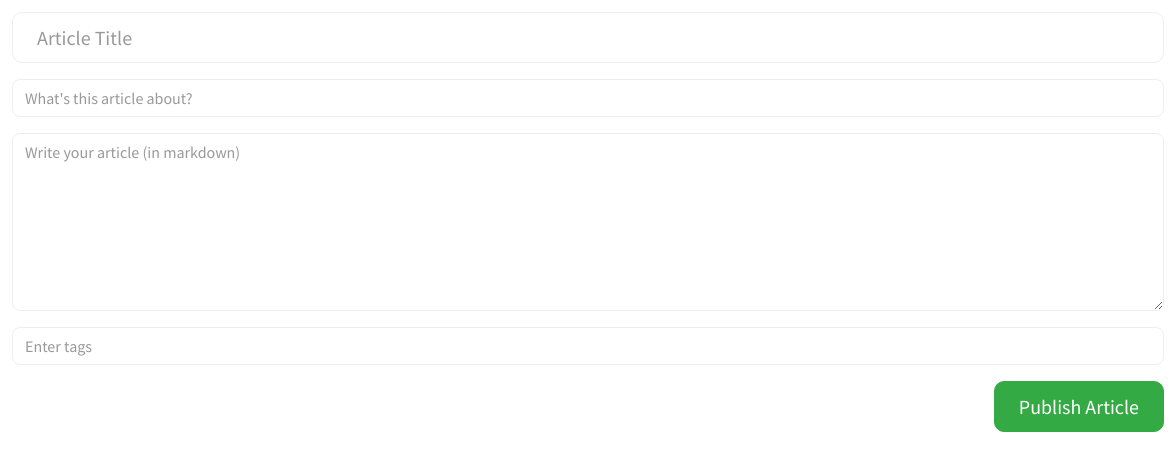
Test: ArticleEditorForm › input handling › should split space-separated tag string into individual tags
This screenshot has width=1176, height=449.
Type "tag1 tag2 tag 3" into the field with placeholder "Enter tags" at (588, 346), box [12, 327, 1164, 365]
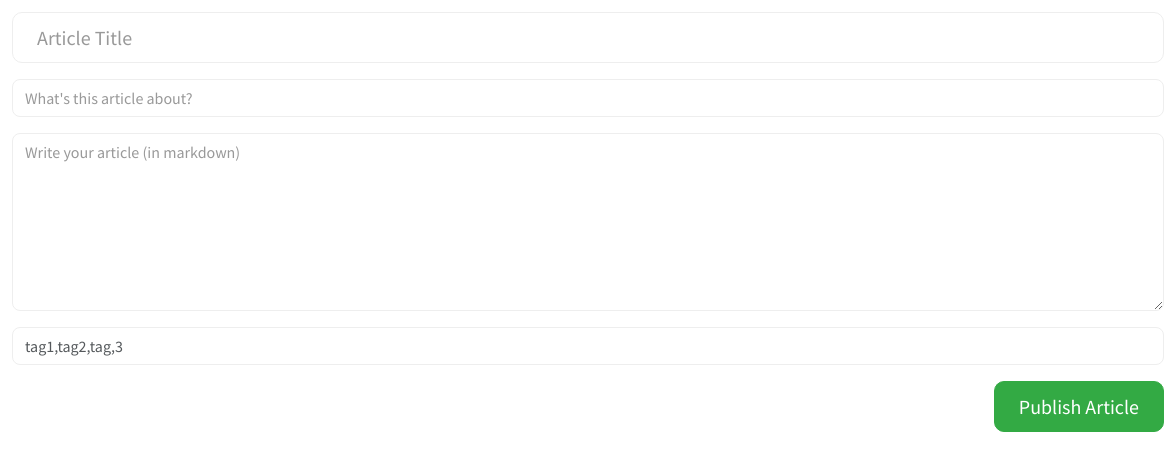
Now the field with placeholder "Enter tags" holds "tag1,tag2,tag,3", box [12, 327, 1164, 365]
